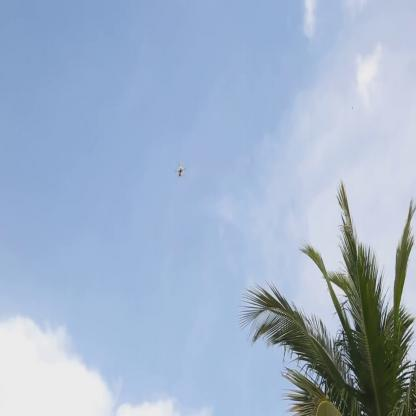drone: (173, 161, 186, 183)
